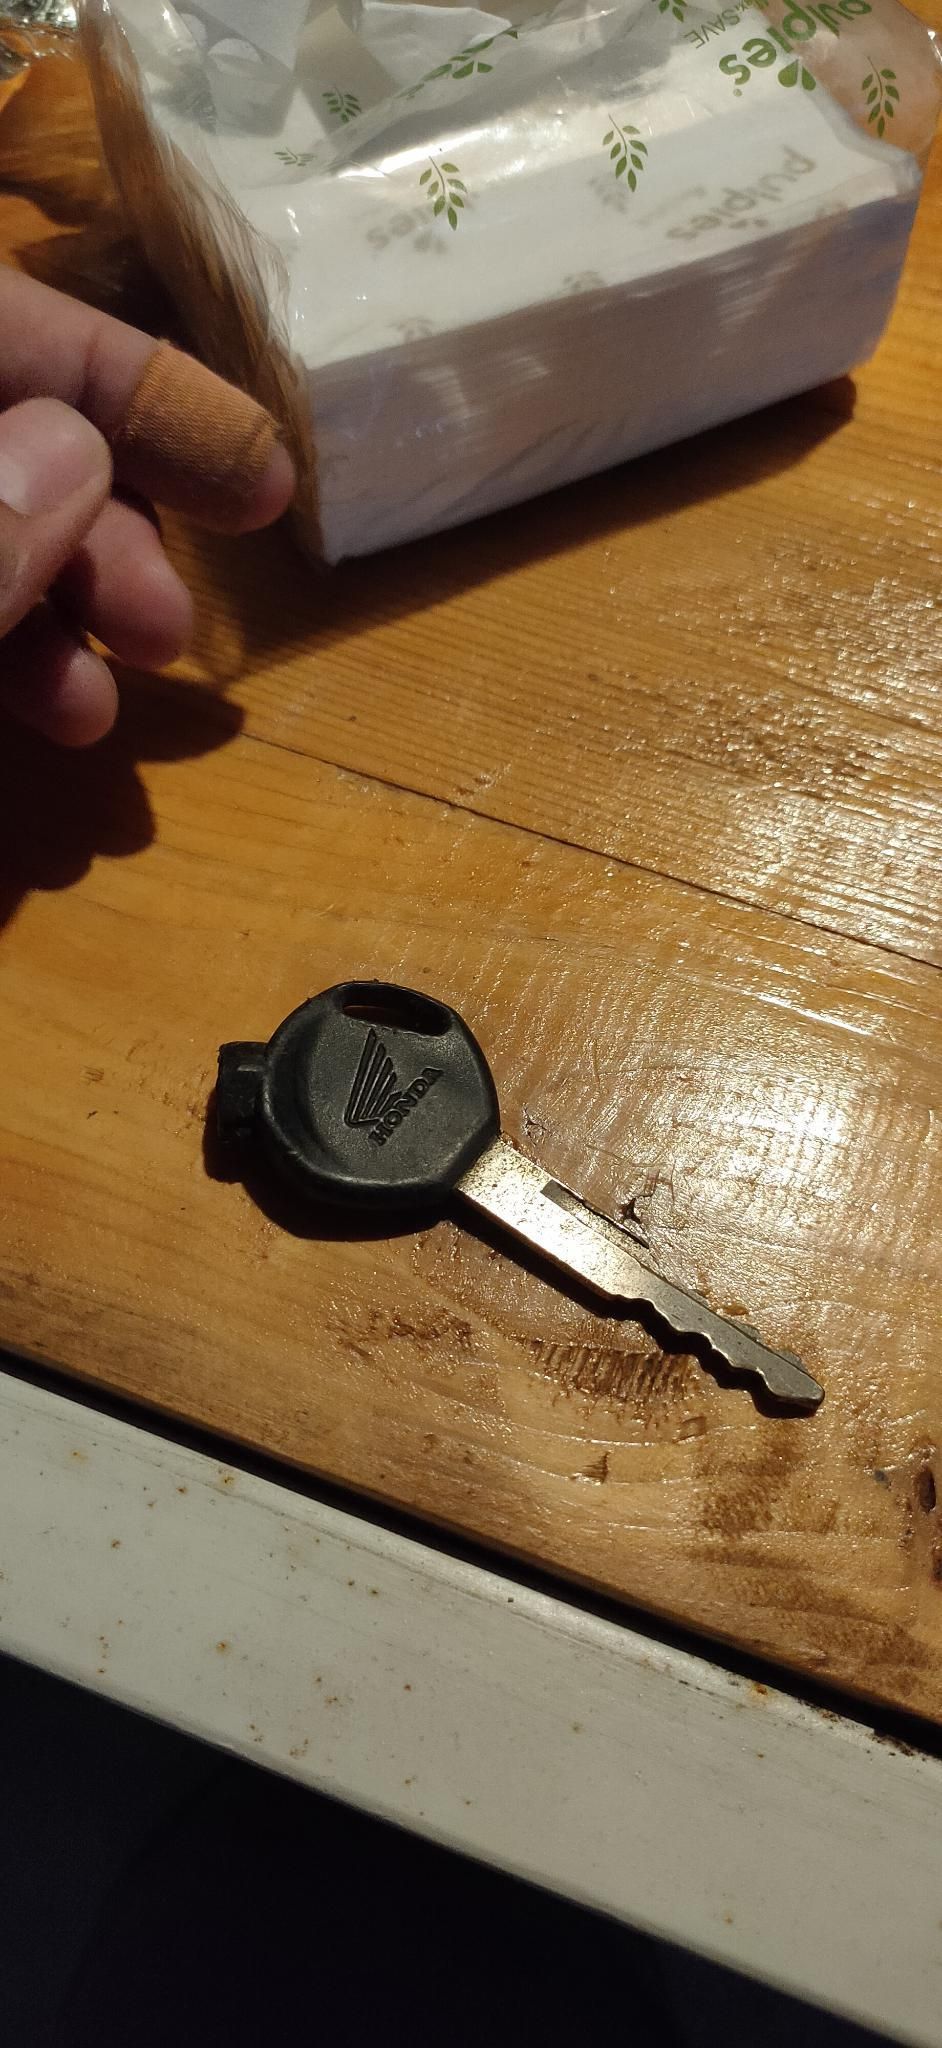keys: (182, 953, 854, 1429)
